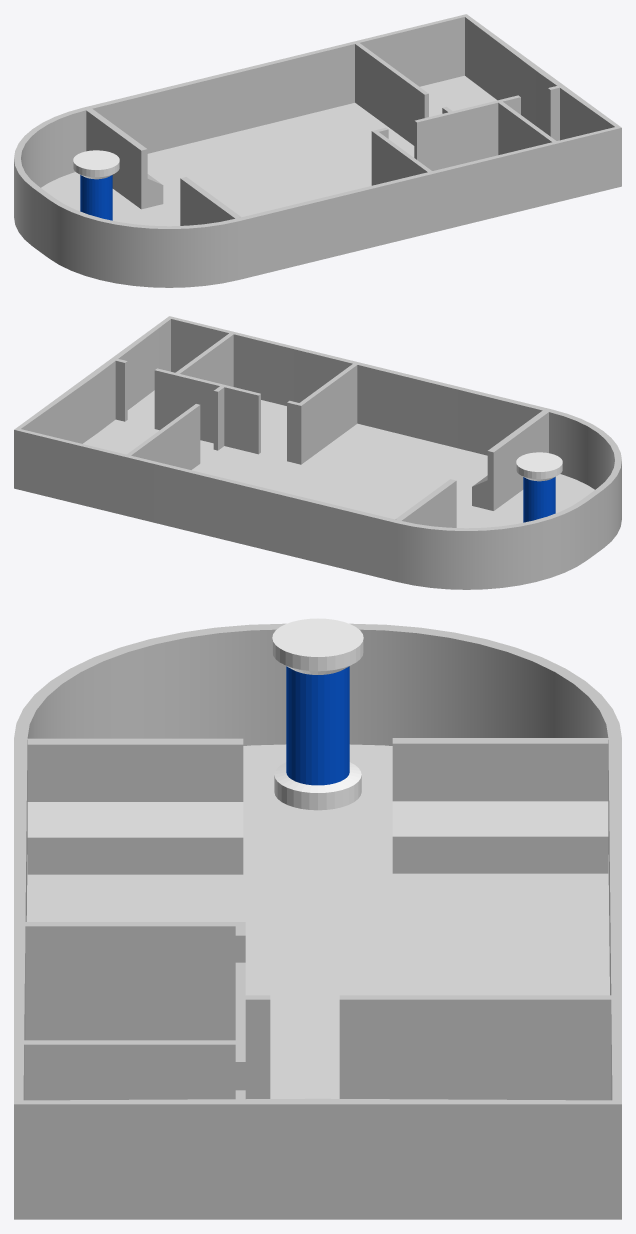
The model's file is Level.fbx.
3 renders of one model, top to bottom at view 1: azimuth 30°, elevation 25°; view 2: azimuth 150°, elevation 25°; view 3: azimuth 270°, elevation 25°, orthographic. The views are drawn at different scales.
Visible parts, largest first — view 1: Cube, Cube.004, Cube.001, Cube.003, Cube.005, Cylinder, Cube.006; view 2: Cube, Cube.004, Cube.003, Cube.001, Cube.006, Cylinder, Cube.005; view 3: Cube, Cube.004, Cube.003, Cube.001, Cube.006, Cube.005, Cylinder.
Part boxes in pixels (<box>): Cube: <box>14,14,621,287</box>; Cube.004: <box>41,75,496,226</box>; Cube.001: <box>353,41,564,166</box>; Cube.003: <box>371,101,559,232</box>; Cube.005: <box>86,109,163,209</box>; Cylinder: <box>73,150,119,220</box>; Cube.006: <box>180,177,241,225</box>; Cube: <box>14,316,621,589</box>; Cube.004: <box>83,390,594,528</box>; Cube.003: <box>175,331,359,464</box>; Cube.001: <box>110,357,226,516</box>; Cube.006: <box>472,410,548,510</box>; Cylinder: <box>516,452,562,522</box>; Cube.005: <box>395,479,456,527</box>; Cube: <box>14,623,621,1219</box>; Cube.004: <box>26,744,609,1098</box>; Cube.003: <box>14,922,245,1100</box>; Cube.001: <box>235,995,621,1219</box>; Cube.006: <box>27,738,243,874</box>; Cube.005: <box>392,738,608,873</box>; Cylinder: <box>272,618,363,810</box>.
Bounding box in the file's own units: 1153 × 175 × 616.
